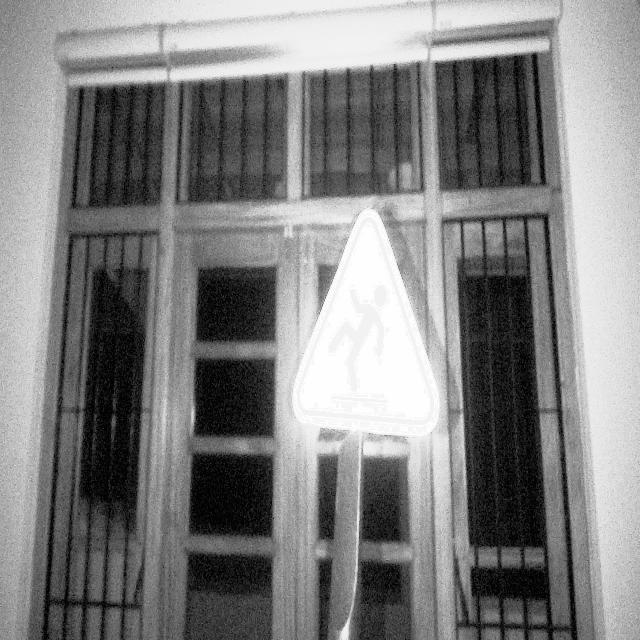Sign: (291, 207, 441, 441)
